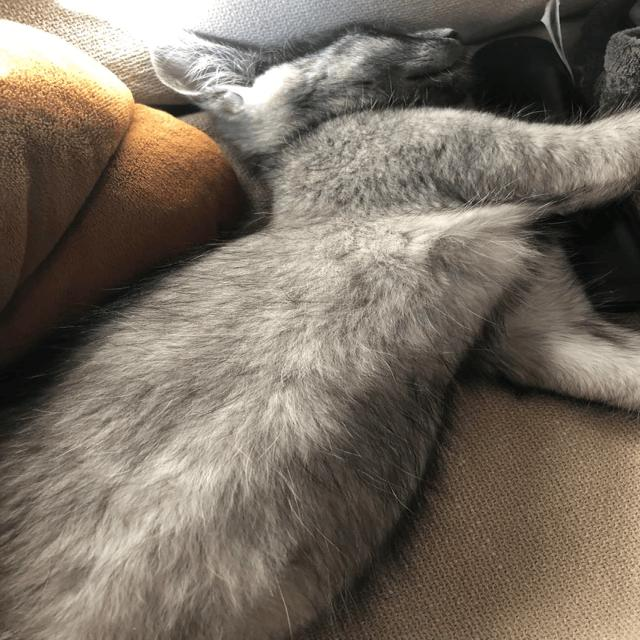da khoe manh: (60, 382, 246, 588), (290, 154, 466, 312)
